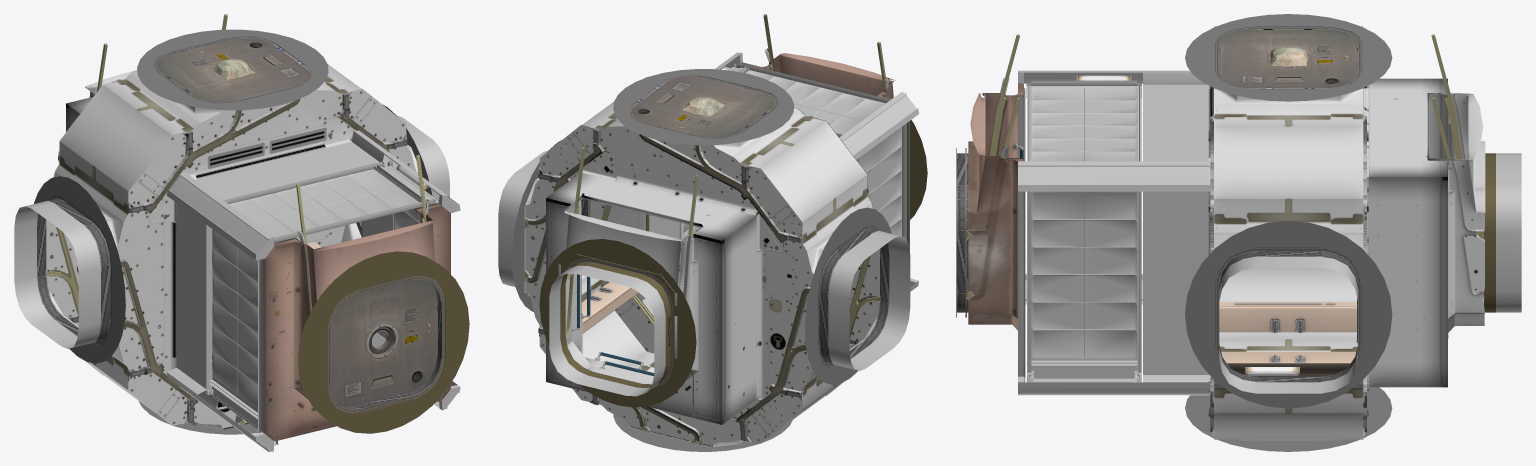
The picture shows the model from 3 angles, left to right: view 1: azimuth 30°, elevation 25°; view 2: azimuth 150°, elevation 25°; view 3: azimuth 270°, elevation 25°; orthographic projection. The views are drawn at different scales.
Visible parts, largest first — view 1: Node1_Int_Metal_Hatch_Zenith_Generic_Metals.004, Node1_Int_Metal_Hatch_Zenith_Generic_Hub.004, Node1_Int_Metal_Hatch_Zenith_Node1_Int_Rack, Node1_Int_Metal_Hatch_Zenith_Node1_Int_Bulkhead, Node1_Int_Metal_Hatch_Zenith_Generic_Misc_Details.003; view 2: Node1_Int_Metal_Hatch_Zenith_Generic_Hub.004, Node1_Int_Metal_Hatch_Zenith_Generic_Metals.004, Node1_Int_Metal_Hatch_Zenith_Node1_Int_Bulkhead, Node1_Int_Metal_Hatch_Zenith_Generic_Misc_Details.003, Node1_Int_Metal_Hatch_Zenith_Node1_Int_Rack; view 3: Node1_Int_Metal_Hatch_Zenith_Node1_Int_Rack, Node1_Int_Metal_Hatch_Zenith_Node1_Int_Bulkhead, Node1_Int_Metal_Hatch_Zenith_Generic_Hub.004, Node1_Int_Metal_Hatch_Zenith_Generic_Metals.004, Node1_Int_Metal_Hatch_Zenith_Generic_Misc_Details.003, Node1_Int_Metal_Hatch_Zenith_Generic_Lights.004.
Part boxes in pixels (x1,y1,x2,y2): Node1_Int_Metal_Hatch_Zenith_Generic_Metals.004: [34, 14, 469, 445]; Node1_Int_Metal_Hatch_Zenith_Generic_Hub.004: [46, 38, 417, 429]; Node1_Int_Metal_Hatch_Zenith_Node1_Int_Rack: [166, 130, 460, 451]; Node1_Int_Metal_Hatch_Zenith_Node1_Int_Bulkhead: [66, 59, 450, 441]; Node1_Int_Metal_Hatch_Zenith_Generic_Misc_Details.003: [14, 116, 449, 348]; Node1_Int_Metal_Hatch_Zenith_Generic_Hub.004: [524, 77, 879, 447]; Node1_Int_Metal_Hatch_Zenith_Generic_Metals.004: [512, 14, 927, 451]; Node1_Int_Metal_Hatch_Zenith_Node1_Int_Bulkhead: [546, 48, 909, 424]; Node1_Int_Metal_Hatch_Zenith_Generic_Misc_Details.003: [498, 150, 910, 396]; Node1_Int_Metal_Hatch_Zenith_Node1_Int_Rack: [642, 52, 918, 314]; Node1_Int_Metal_Hatch_Zenith_Node1_Int_Rack: [1018, 70, 1210, 395]; Node1_Int_Metal_Hatch_Zenith_Node1_Int_Bulkhead: [967, 46, 1485, 387]; Node1_Int_Metal_Hatch_Zenith_Generic_Hub.004: [1208, 26, 1368, 440]; Node1_Int_Metal_Hatch_Zenith_Generic_Metals.004: [956, 14, 1495, 451]; Node1_Int_Metal_Hatch_Zenith_Generic_Misc_Details.003: [1219, 153, 1521, 393]; Node1_Int_Metal_Hatch_Zenith_Generic_Lights.004: [1076, 75, 1299, 375].
Size of the model in its own units: 4.26 by 3.72 by 5.19.
